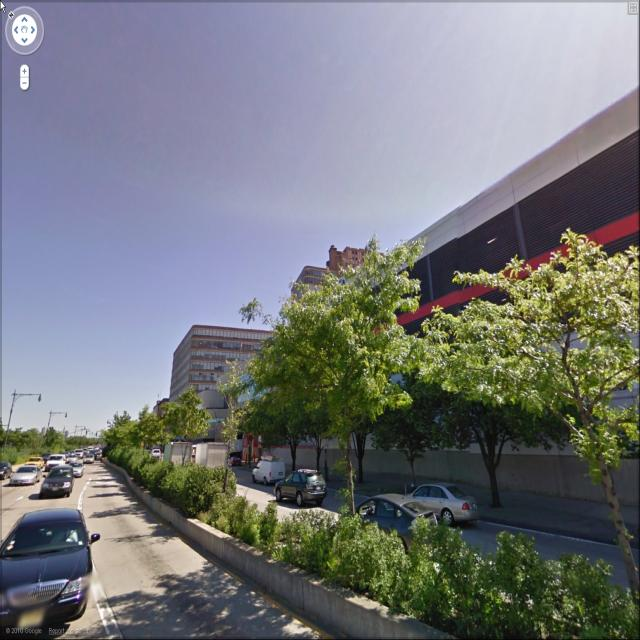b_2: (261, 76, 640, 465), (164, 312, 288, 422), (286, 220, 392, 314)
